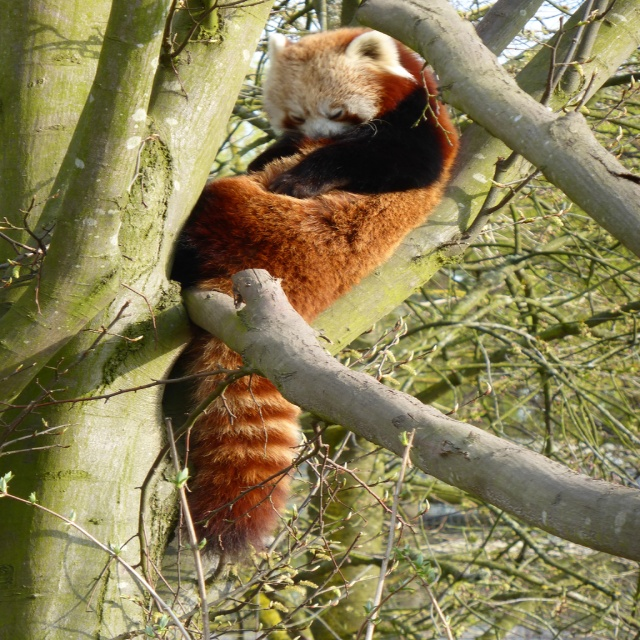Red panda: (176, 25, 460, 566)
